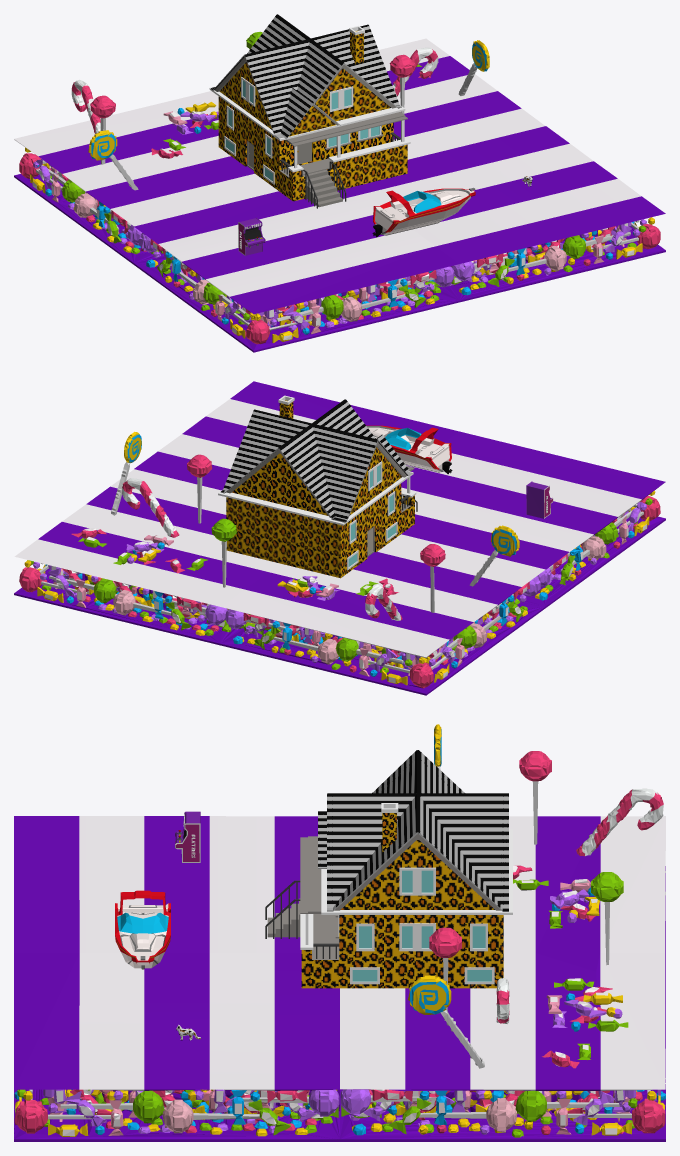
3 views of the same model, one above another, from view 1: azimuth 30°, elevation 25°; view 2: azimuth 150°, elevation 25°; view 3: azimuth 270°, elevation 25° (orthographic). The views are drawn at different scales.
Visible parts, largest first — view 1: TERRAIN_CANDY, Cube.637, VEHICLES_BOAT, OBJRANDOM_ARCADE; view 2: TERRAIN_CANDY, Cube.637, VEHICLES_BOAT, OBJRANDOM_ARCADE; view 3: TERRAIN_CANDY, Cube.637, VEHICLES_BOAT, OBJRANDOM_ARCADE.
Boxes of the visible parts, x1,y1,x2,y2 form: TERRAIN_CANDY: (14,31,665,352); Cube.637: (209,14,410,208); VEHICLES_BOAT: (372,187,475,237); OBJRANDOM_ARCADE: (238,217,265,255); TERRAIN_CANDY: (14,381,665,695); Cube.637: (218,395,417,578); VEHICLES_BOAT: (366,425,452,474); OBJRANDOM_ARCADE: (526,481,553,518); TERRAIN_CANDY: (14,724,665,1141); Cube.637: (265,750,512,988); VEHICLES_BOAT: (115,890,170,969); OBJRANDOM_ARCADE: (175,811,200,862).
Bounding box in the file's own units: 4059 × 1584 × 4000.
31 materials, 3 textured.
